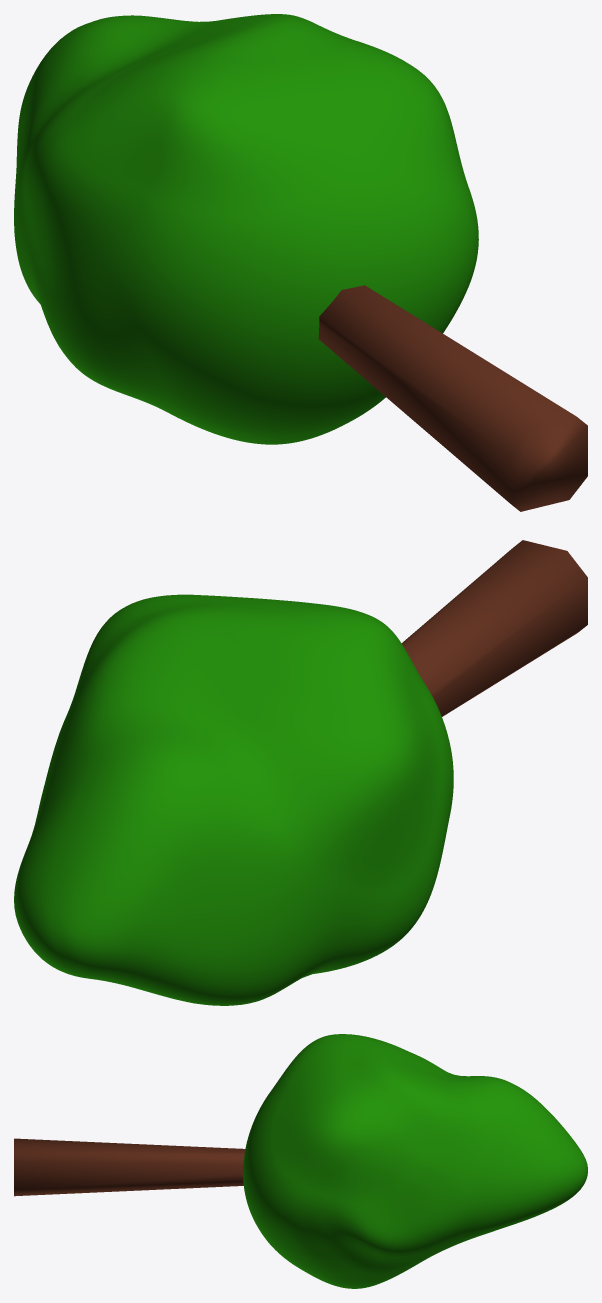
Rendered from thin_tree (1).fbx.
The picture shows the model from 3 angles, top to bottom: view 1: azimuth 30°, elevation 25°; view 2: azimuth 150°, elevation 25°; view 3: azimuth 270°, elevation 25°; orthographic projection. The views are drawn at different scales.
Visible parts, largest first — view 1: Cube; view 2: Cube; view 3: Cube.
Part boxes in pixels (left/top/right/bottom): Cube: left=14, top=14, right=587, bottom=511; Cube: left=14, top=540, right=587, bottom=1005; Cube: left=14, top=1034, right=587, bottom=1288.
Size of the model in its own units: 467 by 474 by 1109.
